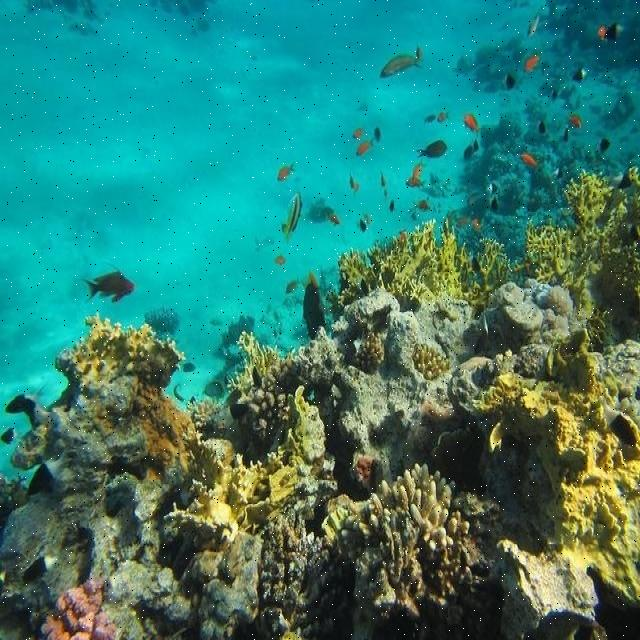fish: (79, 269, 134, 304), (379, 42, 422, 77), (280, 191, 303, 243), (416, 138, 449, 158)
reefs: (164, 386, 337, 550), (338, 463, 498, 617), (512, 164, 639, 319), (324, 215, 509, 319), (67, 312, 183, 388), (249, 351, 298, 440), (222, 329, 278, 401), (412, 343, 451, 380), (355, 329, 385, 375)
